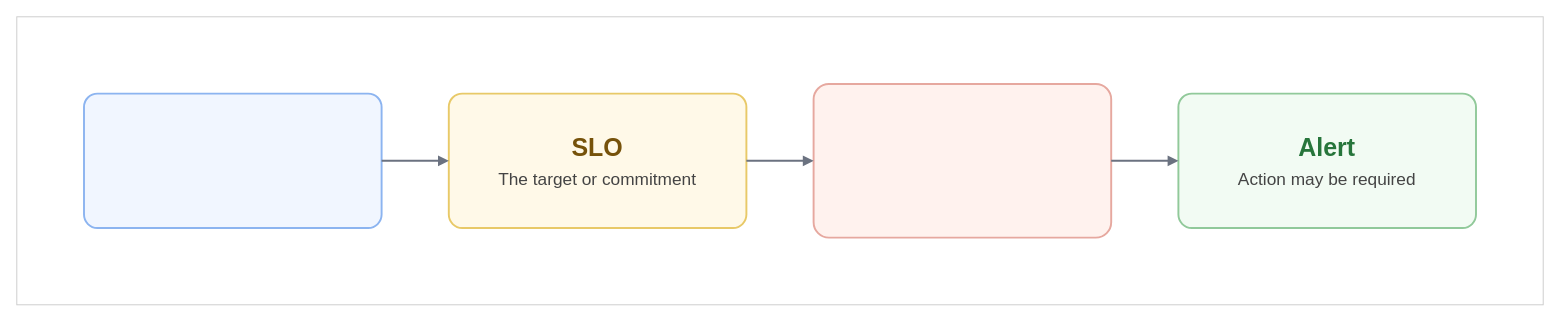
Some shapes in this 1560 by 322 pixel diagram are drawn without their labels. Here are the shapes that lost their labels. From the top down, the centre of each, then its label:
At (x=232, y=160): "SLI What you measure".
At (x=962, y=160): "Burn Rate How quickly the error budget is being consumed".
